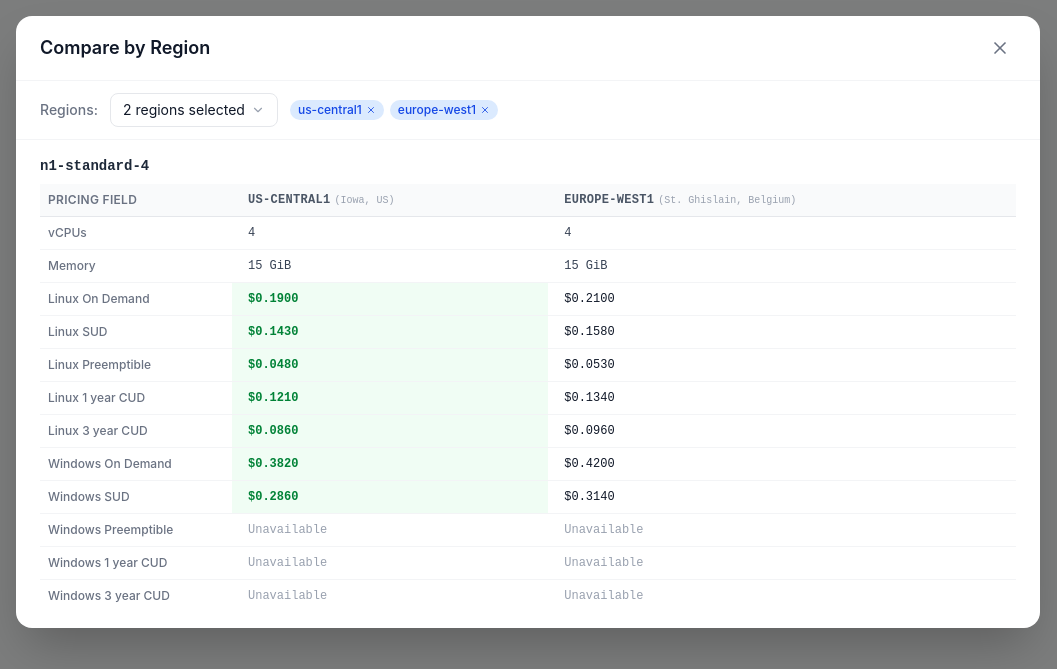
Test: RegionCompareDialog › shows all regions in dropdown when opened
Click the button "2 regions selected": {"x": 194, "y": 110} [110,93,278,127]
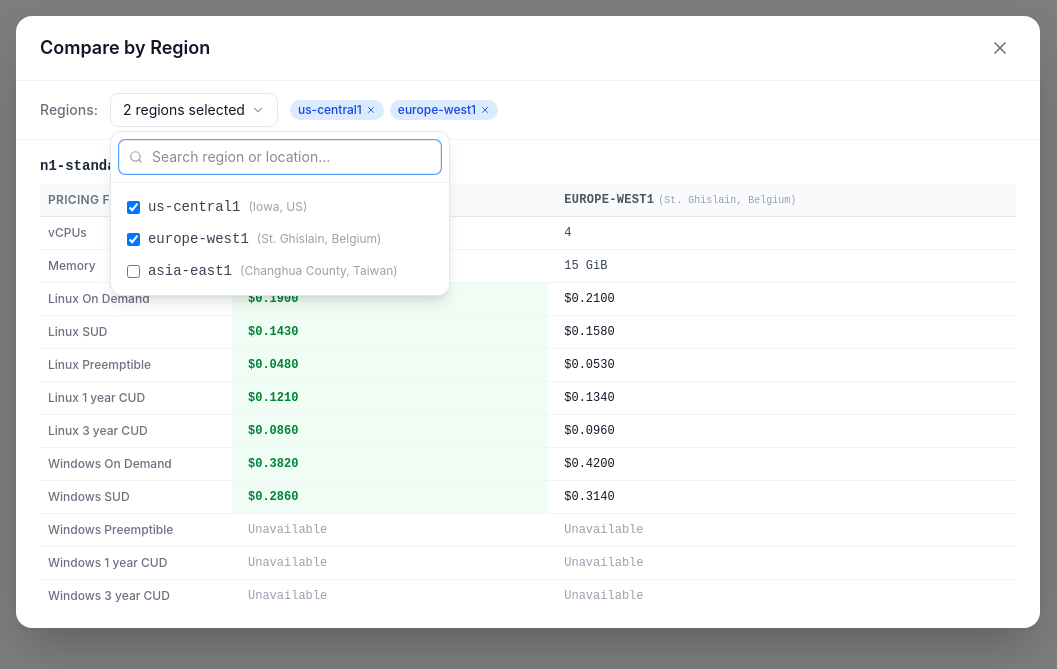
Now the text "us-central1" is shown, box [148,197,240,217]
Now the text "europe-west1" below "Regions:" is shown, box [148,231,249,247]
Now the text "asia-east1" is shown, box [148,261,232,281]
